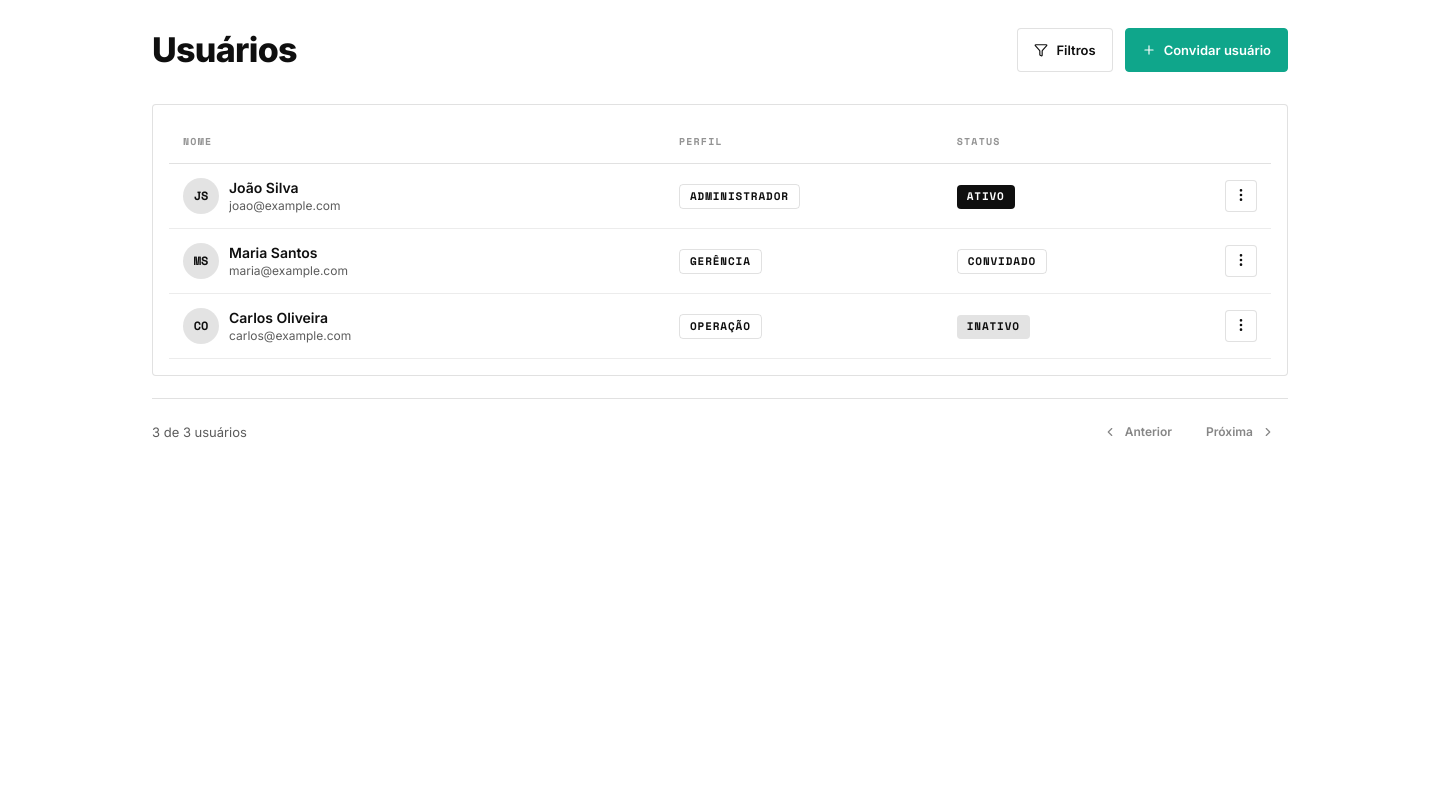
it: Usuarios — ADMIN/SUPORTE (veem tudo, criam tudo) › keeps the search field inside the filter modal, next to invite in the header
The width and height of the screenshot is (1440, 810).
Expected: the text "João Silva" is shown, [229, 179, 299, 196]
Expected: the field labelled "Nome ou e-mail" is not shown
Click the button "Filtros" at (1065, 50), box [1018, 28, 1113, 72]
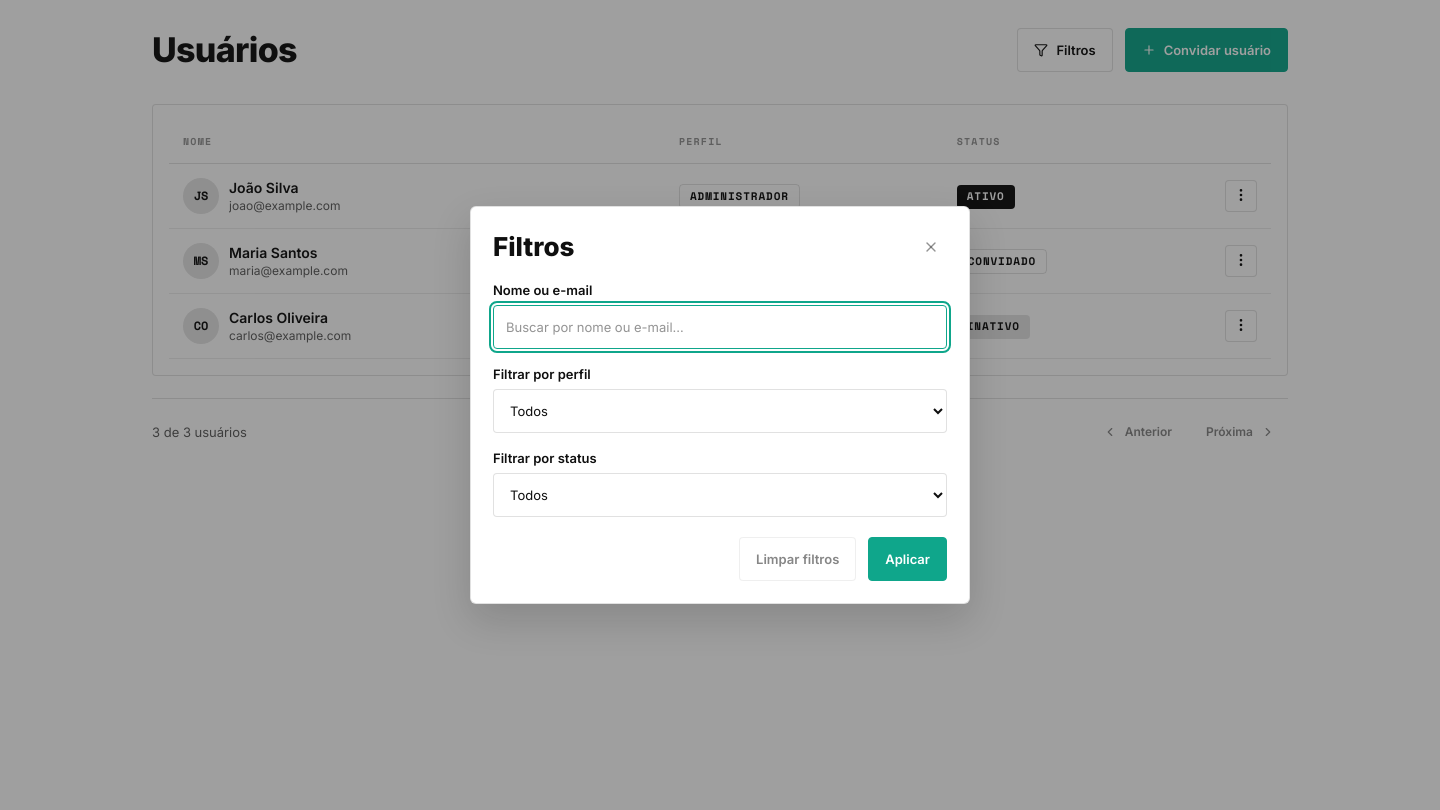
Type "maria" into the search field labelled "Nome ou e-mail" at (720, 327), box [493, 305, 947, 349]
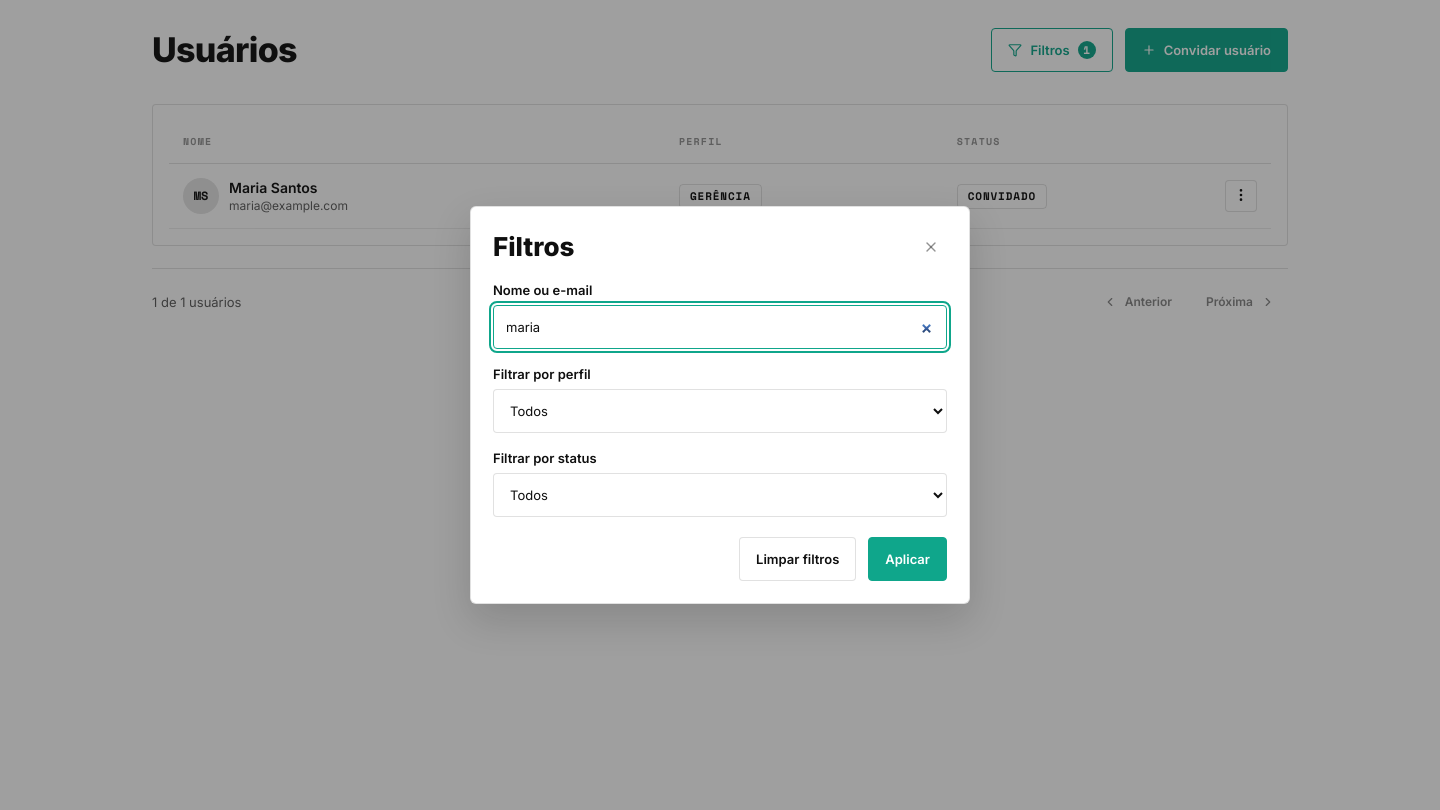
Expected: the text "Maria Santos" is shown, [229, 179, 318, 196]
Expected: the text "João Silva" is gone
Expected: the text "Carlos Oliveira" is gone
